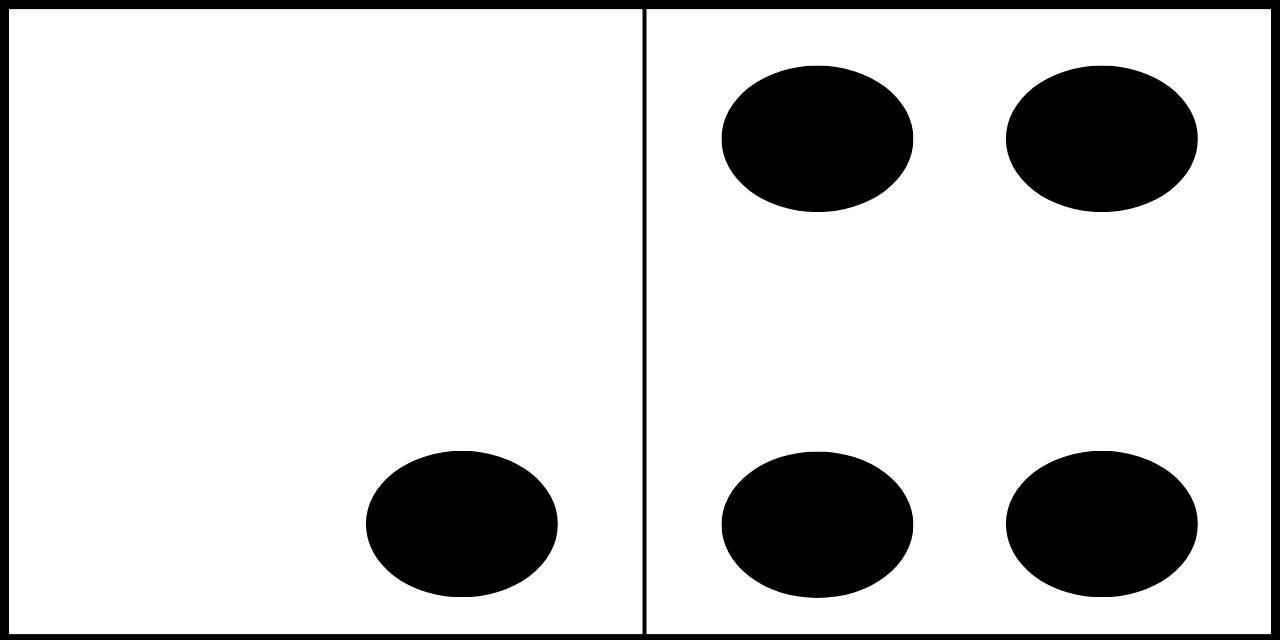capital_sign: (189, 90, 560, 596)
letter_X: (722, 62, 1197, 598)
